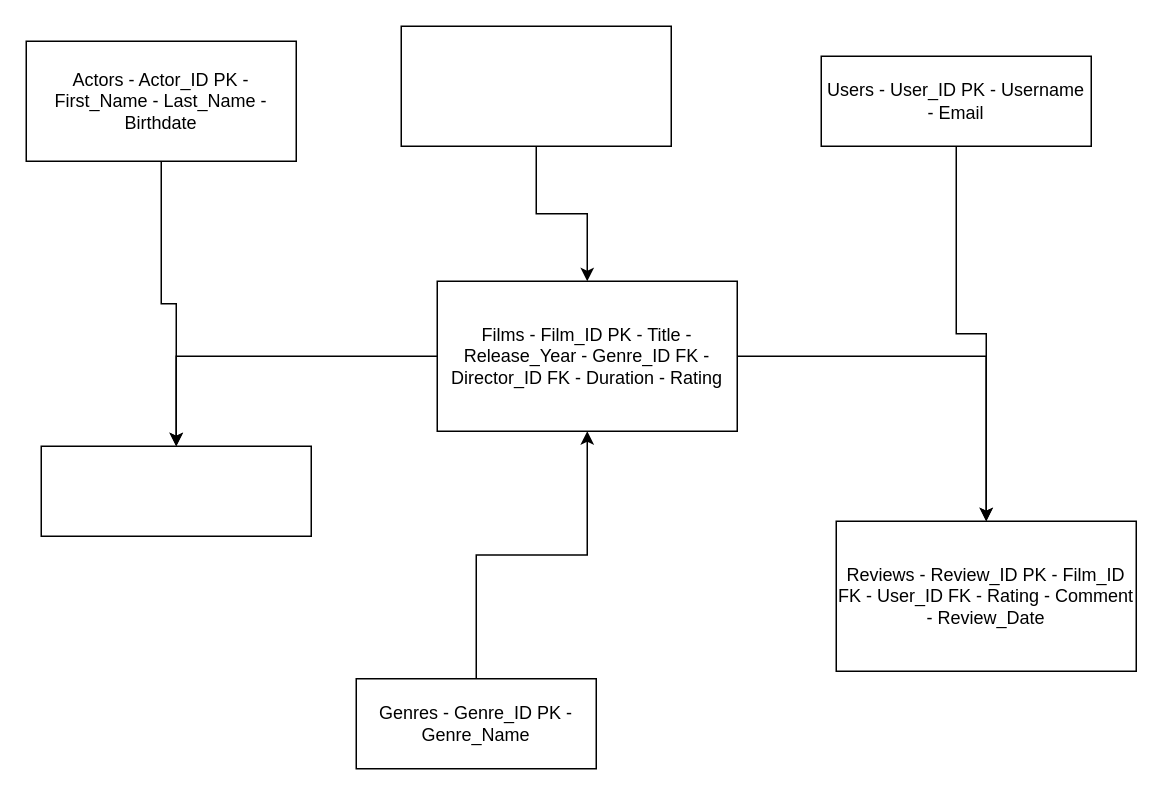
This 1163x795 diagram has some shape labels left out. The centre of each missing label's shape, as x and y in pixels:
"Directors - Director_ID PK - First_Name - Last_Name - Birthdate" belongs at point (535, 85).
"Film_Actors - Film_ID FK - Actor_ID FK - Role" belongs at point (175, 490).
